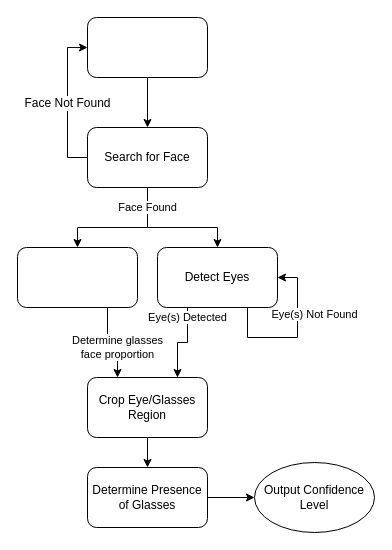
The diagram is 392 pixels wide and 550 high, and some of its shapes have lost their labels. Each missing label, with the centre of its shape:
Measure Face (Width x Height): [77,277]
Webcam Input: [147,47]
